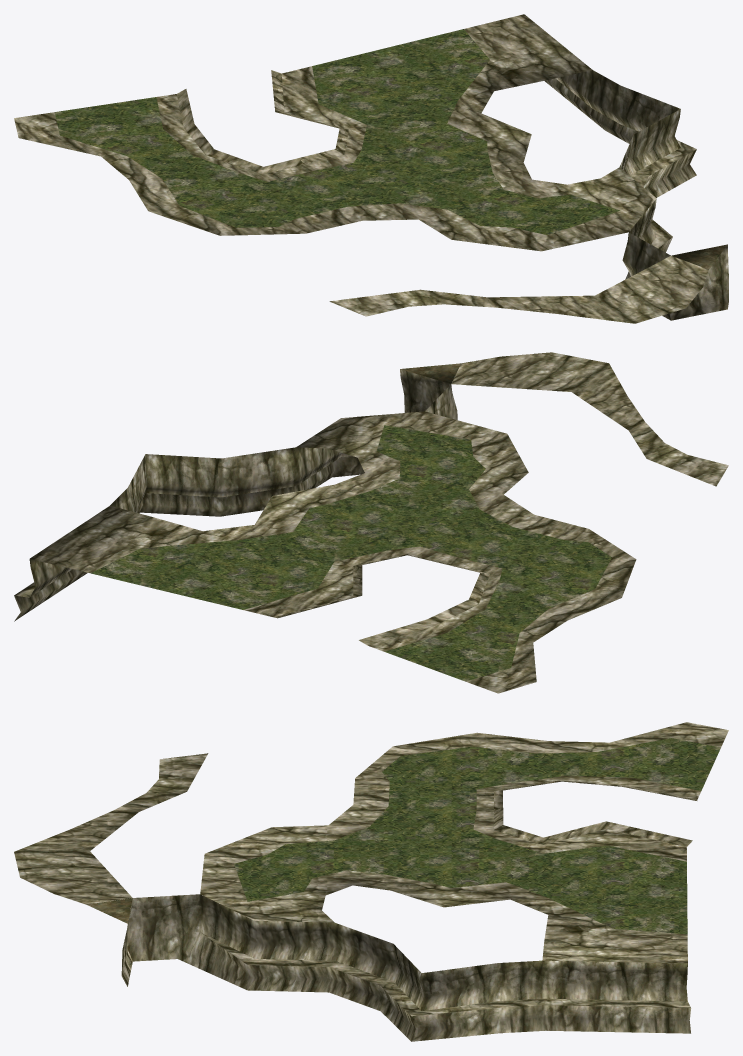
The model's file is CB_NEWPLAYSURFACE_CB_PLAYSURFACE20.fbx.
3 views of the same model, one above another, from view 1: azimuth 30°, elevation 25°; view 2: azimuth 150°, elevation 25°; view 3: azimuth 270°, elevation 25° (orthographic). The views are drawn at different scales.
Visible parts, largest first — view 1: CB_NEWPLAYSURFACE_CB_PLAYSURFACE20; view 2: CB_NEWPLAYSURFACE_CB_PLAYSURFACE20; view 3: CB_NEWPLAYSURFACE_CB_PLAYSURFACE20.
Part boxes in pixels (x1=…): CB_NEWPLAYSURFACE_CB_PLAYSURFACE20: x1=14, y1=14, x2=728, y2=323; CB_NEWPLAYSURFACE_CB_PLAYSURFACE20: x1=14, y1=352, x2=728, y2=693; CB_NEWPLAYSURFACE_CB_PLAYSURFACE20: x1=14, y1=722, x2=728, y2=1041.
Size of the model in its own units: 345665 by 42181 by 407795.
4 materials, 4 textured.
